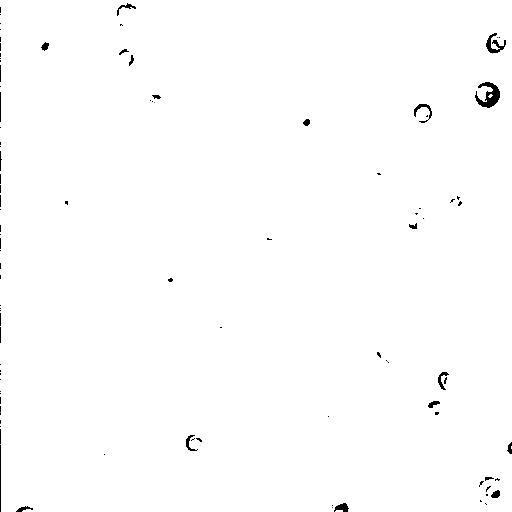micro-algae: (401, 336, 511, 457), (304, 221, 410, 323), (21, 1, 102, 78), (439, 412, 512, 494), (95, 13, 171, 85), (442, 151, 492, 202), (367, 7, 411, 53), (451, 105, 491, 146), (169, 181, 205, 223), (396, 205, 431, 238), (117, 338, 147, 368), (256, 219, 286, 249), (317, 492, 364, 511), (53, 189, 79, 223), (85, 437, 116, 463), (473, 81, 501, 109), (371, 341, 399, 369), (160, 268, 187, 295), (367, 155, 395, 181), (32, 32, 59, 58), (479, 478, 506, 504), (483, 30, 509, 56), (293, 107, 316, 135), (111, 0, 136, 25), (437, 370, 459, 393), (413, 101, 432, 125), (183, 433, 204, 453), (117, 48, 133, 66), (427, 399, 441, 418), (447, 195, 462, 211), (15, 503, 39, 511), (331, 503, 351, 511), (505, 437, 511, 459)
